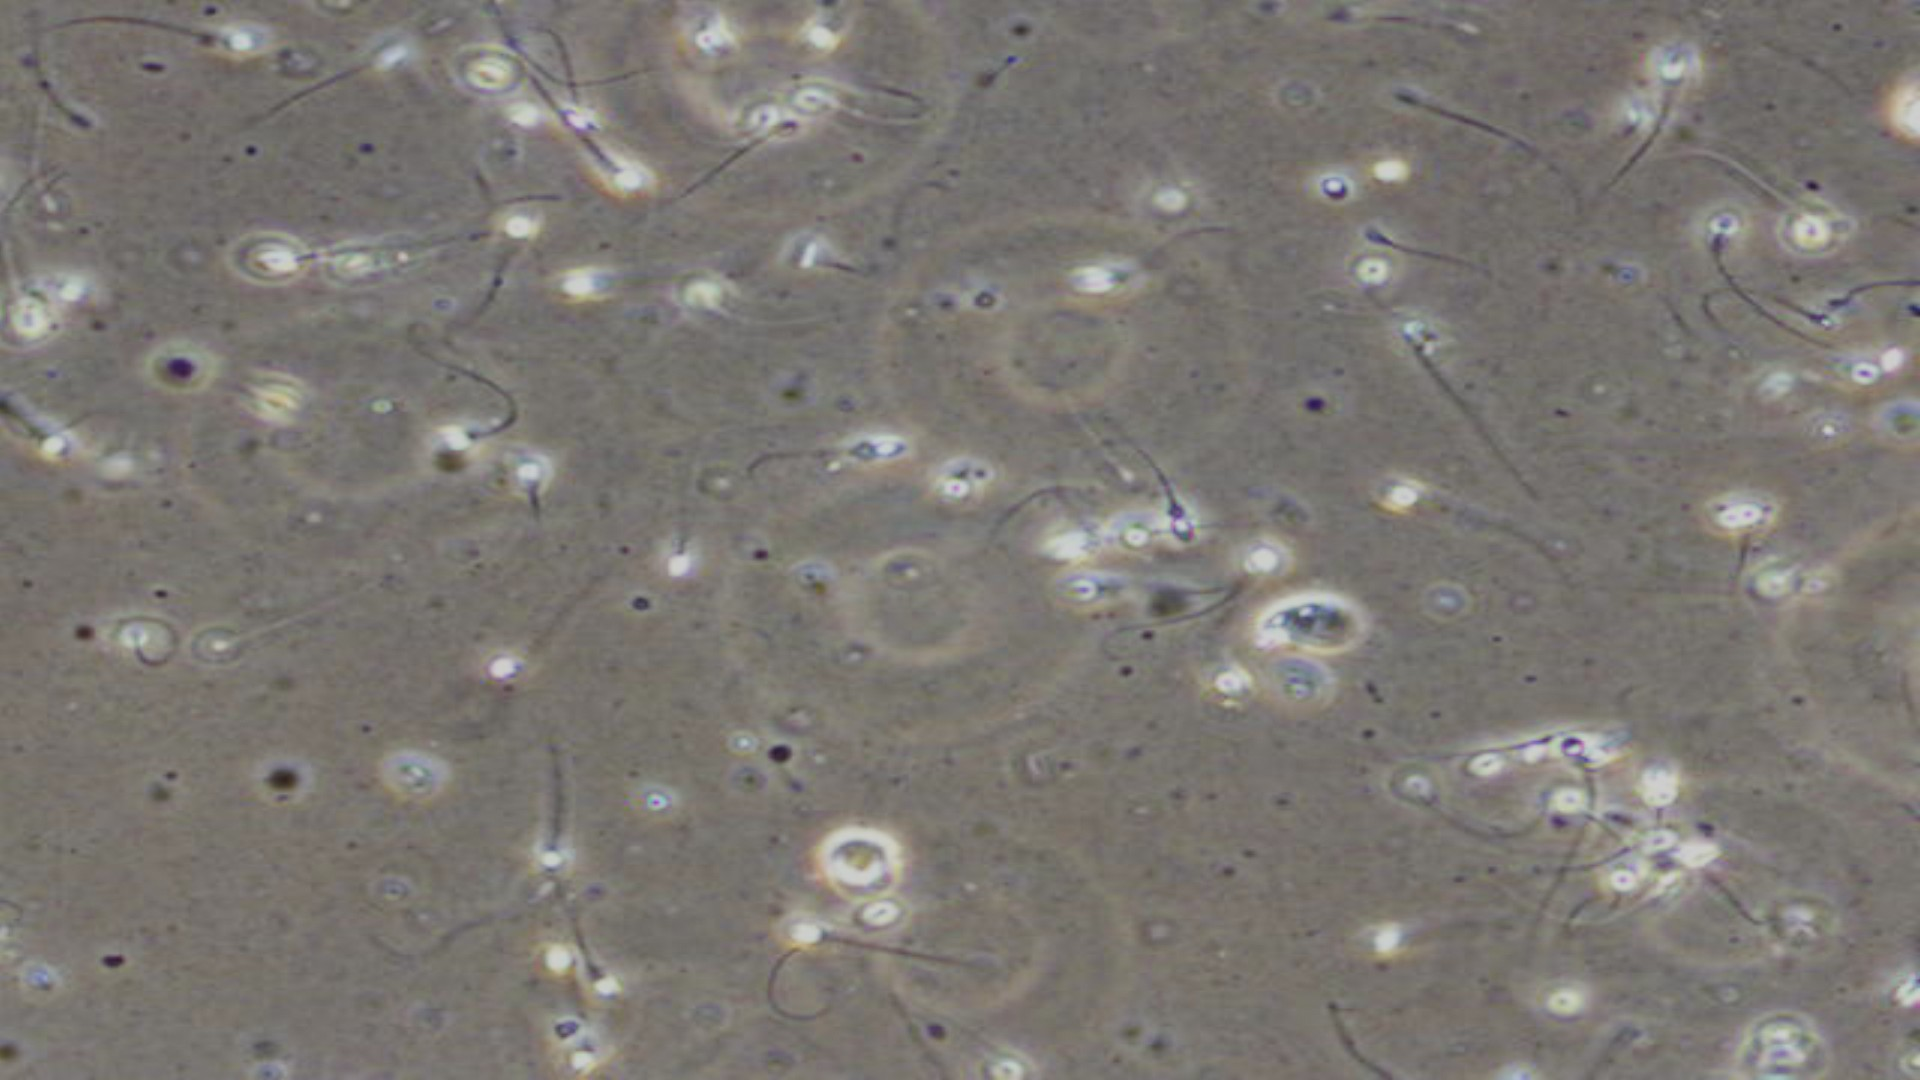sperm: (1622, 50, 1712, 186), (1378, 479, 1539, 549), (404, 367, 525, 459), (657, 509, 746, 628), (527, 113, 651, 199), (103, 16, 286, 67), (777, 916, 938, 973), (1689, 202, 1767, 316), (527, 761, 588, 891), (237, 222, 389, 272), (1143, 435, 1204, 549), (311, 42, 418, 104), (477, 210, 538, 310), (556, 906, 622, 996), (517, 79, 604, 141), (1564, 727, 1609, 831), (510, 448, 553, 527), (1109, 521, 1185, 554)
